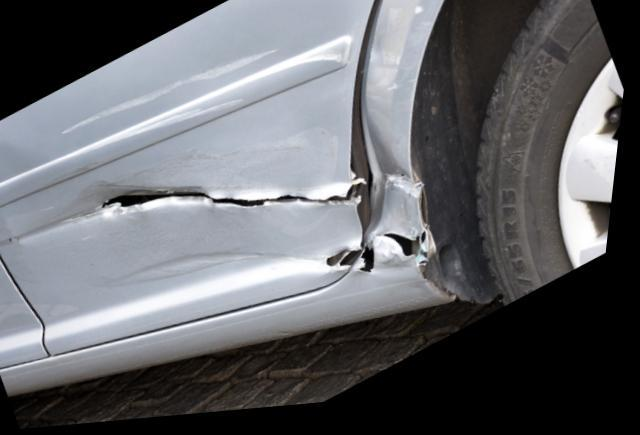crack: (104, 191, 357, 212), (387, 239, 426, 263), (333, 255, 369, 273), (364, 252, 384, 277)
scratch: (47, 132, 349, 290), (62, 50, 285, 137), (92, 99, 249, 154)
